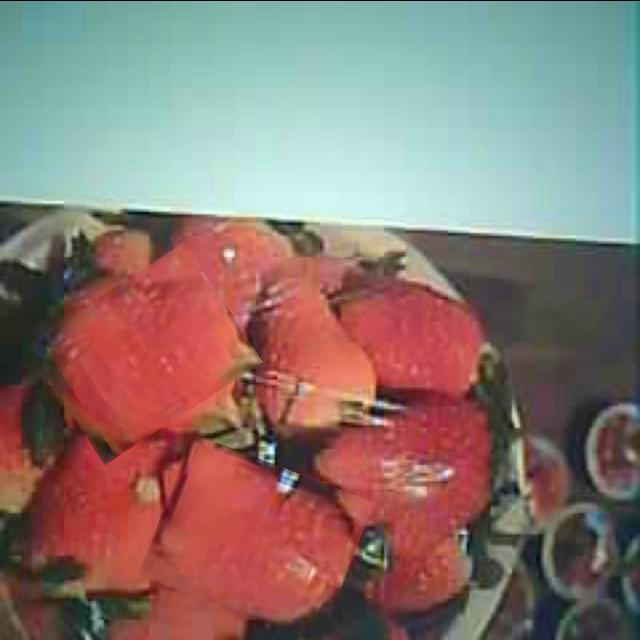strawberry: (38, 260, 250, 444), (150, 446, 363, 628)
